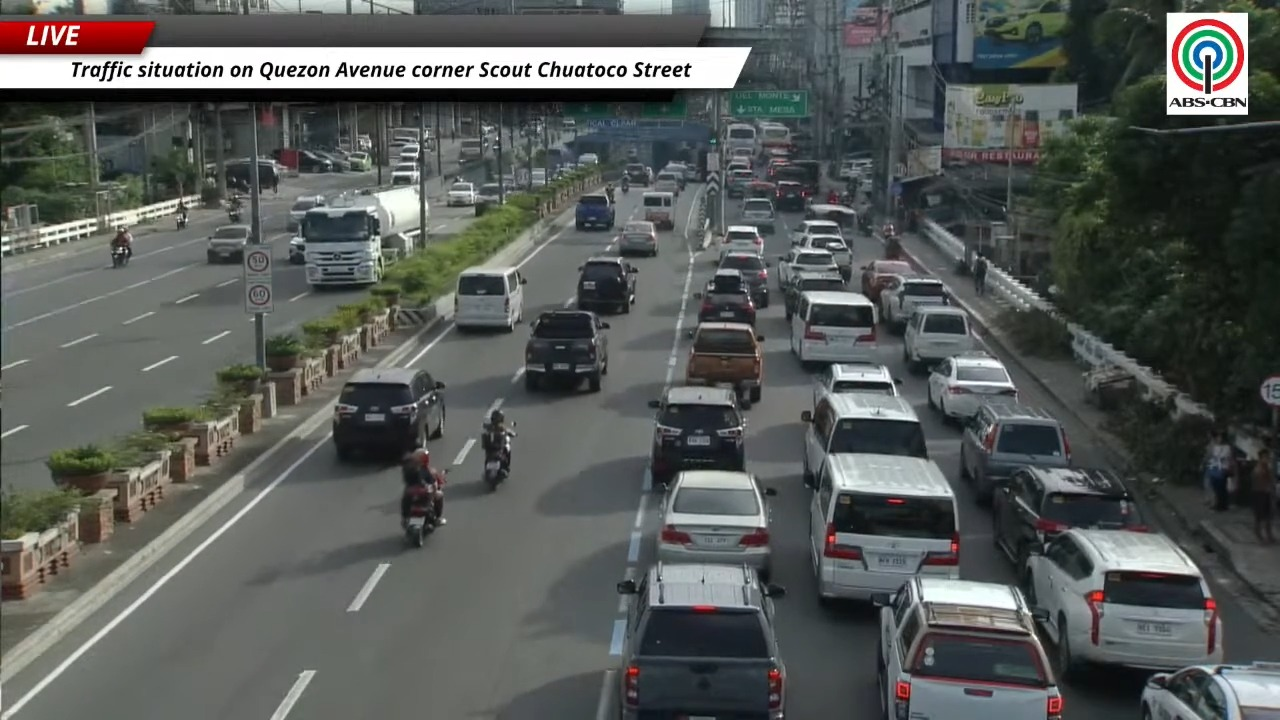bus: (724, 123, 757, 155)
car: (1024, 528, 1223, 679), (616, 563, 787, 719), (873, 579, 1063, 719), (992, 466, 1146, 569), (657, 470, 775, 580), (959, 402, 1071, 501), (801, 394, 927, 481), (332, 368, 445, 459), (649, 386, 745, 486), (1141, 662, 1279, 719), (525, 310, 609, 392), (789, 291, 878, 366), (685, 322, 764, 402), (927, 351, 1018, 420), (903, 305, 976, 369), (815, 362, 900, 408), (879, 275, 949, 330), (982, 0, 1067, 44), (576, 256, 637, 313), (694, 269, 756, 324), (780, 270, 845, 321), (718, 251, 769, 308), (794, 234, 852, 278), (777, 247, 839, 287), (861, 259, 914, 301), (716, 225, 763, 262), (206, 225, 251, 263), (770, 161, 816, 198), (575, 193, 615, 230), (286, 195, 325, 231), (790, 218, 842, 245), (618, 221, 658, 256), (741, 197, 775, 234), (775, 182, 809, 211), (725, 168, 754, 197), (297, 151, 333, 172), (653, 170, 682, 196), (312, 151, 349, 171), (659, 163, 686, 190), (446, 182, 476, 206), (390, 162, 419, 186), (744, 180, 775, 202), (624, 163, 650, 186), (476, 183, 505, 203), (726, 156, 752, 175), (347, 151, 371, 171), (288, 236, 305, 264), (838, 160, 860, 181), (766, 157, 786, 177), (398, 145, 420, 163), (529, 168, 547, 187), (577, 153, 600, 166), (562, 118, 576, 133)
motorcycle: (404, 486, 437, 547), (483, 433, 510, 491), (111, 246, 128, 268), (228, 208, 241, 223), (176, 213, 188, 229), (606, 187, 614, 203), (620, 183, 629, 194)
truck: (301, 187, 421, 286)
